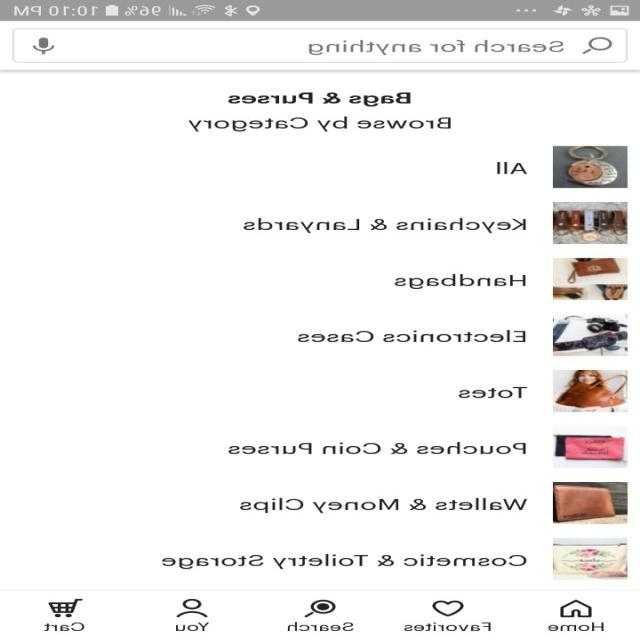EditText: (14, 28, 628, 63)
Icon: (48, 598, 84, 617), (304, 598, 337, 617), (177, 598, 209, 617), (559, 599, 592, 617), (432, 599, 465, 616), (582, 37, 614, 54), (33, 37, 56, 54)
Image: (552, 201, 628, 244), (552, 257, 628, 300), (552, 146, 628, 188), (552, 314, 628, 356), (552, 370, 628, 412), (552, 426, 628, 468), (552, 482, 628, 524), (552, 538, 628, 580)
Text: (162, 554, 527, 569), (243, 217, 528, 233), (240, 498, 528, 513), (188, 116, 452, 131), (228, 441, 528, 454), (308, 40, 564, 54), (298, 329, 526, 342), (228, 92, 412, 107), (394, 273, 526, 289), (404, 621, 492, 631), (458, 386, 528, 398), (287, 621, 355, 631), (548, 621, 604, 631), (44, 621, 86, 631), (497, 162, 528, 174), (176, 621, 210, 631)
